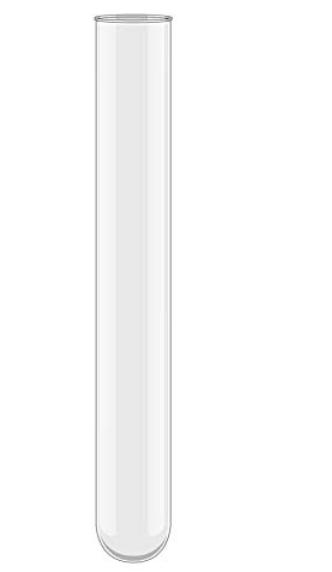Test tube: (84, 9, 180, 569)
